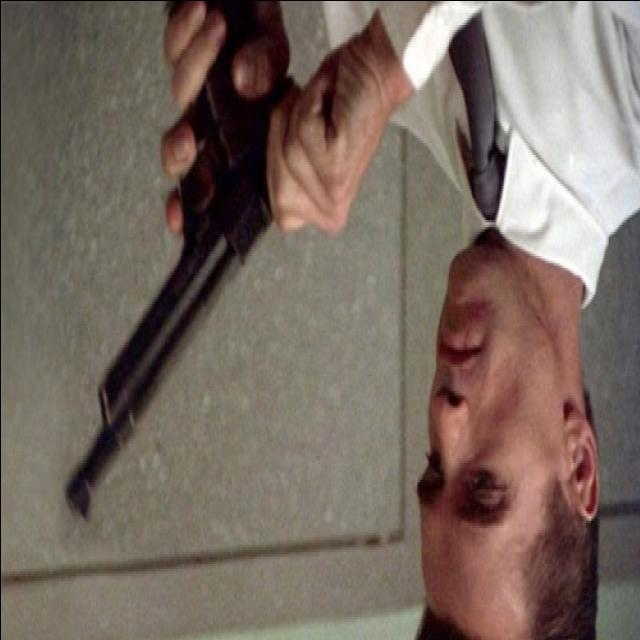weapons: (57, 2, 300, 534)
